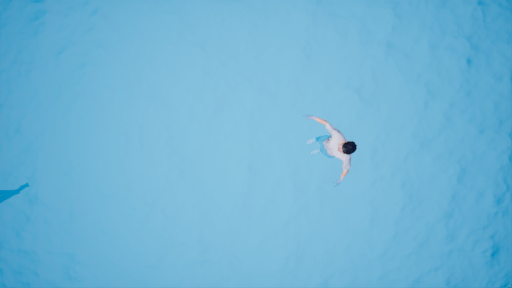person: (305, 110, 361, 187)
